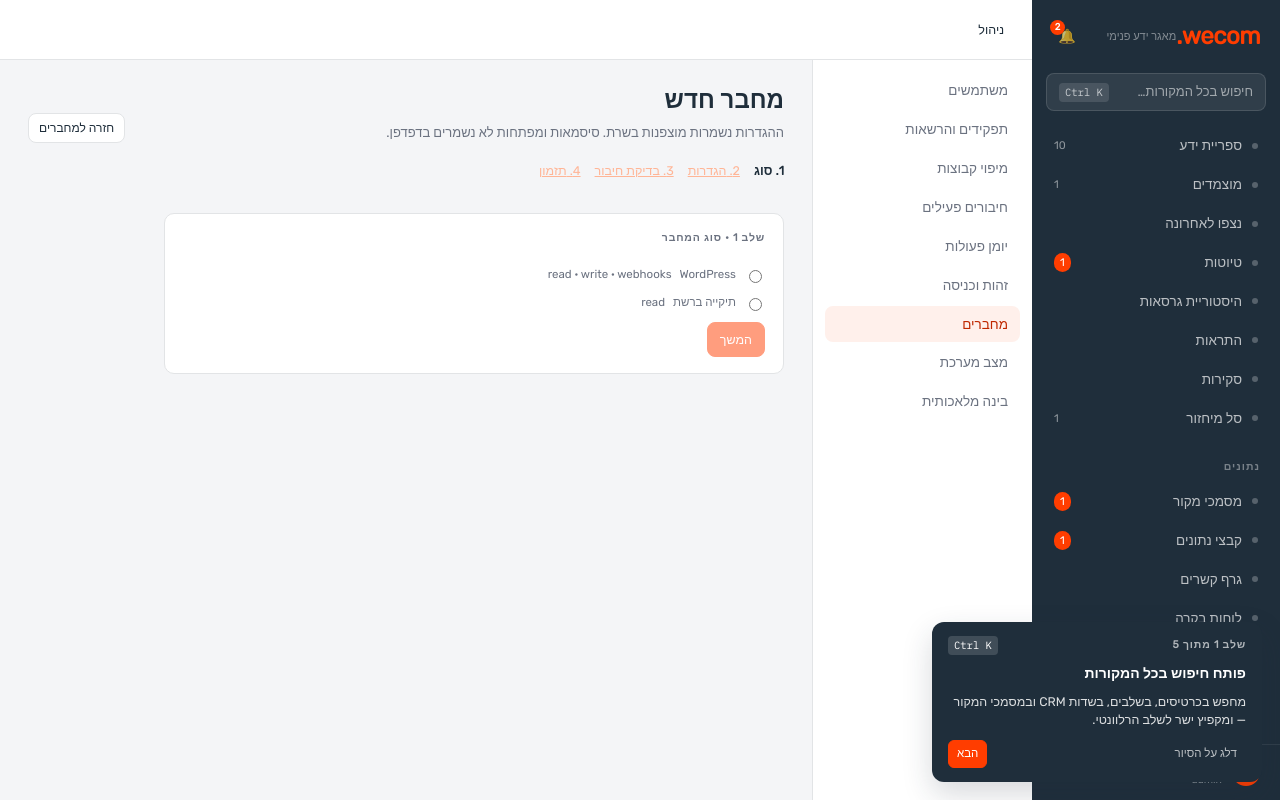
Test: admin · connector wizard › renders the form from the type configSchema, not from hand-written fields
The image size is (1280, 800).
Click the radio button labelled "WordPress". click: (756, 276)
box: [749,270,762,283]
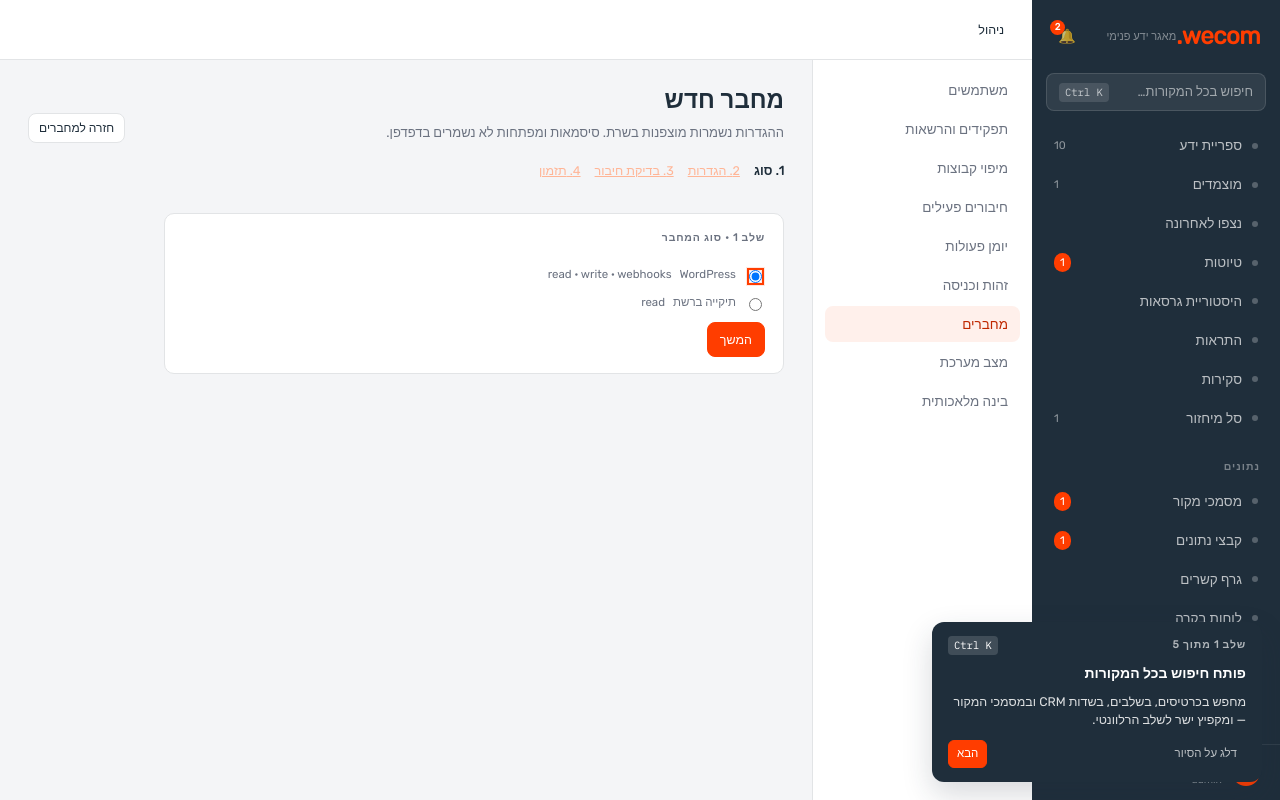
Click the button "המשך". click: (736, 339)
box: [707,322,765,357]
(page scrolled)
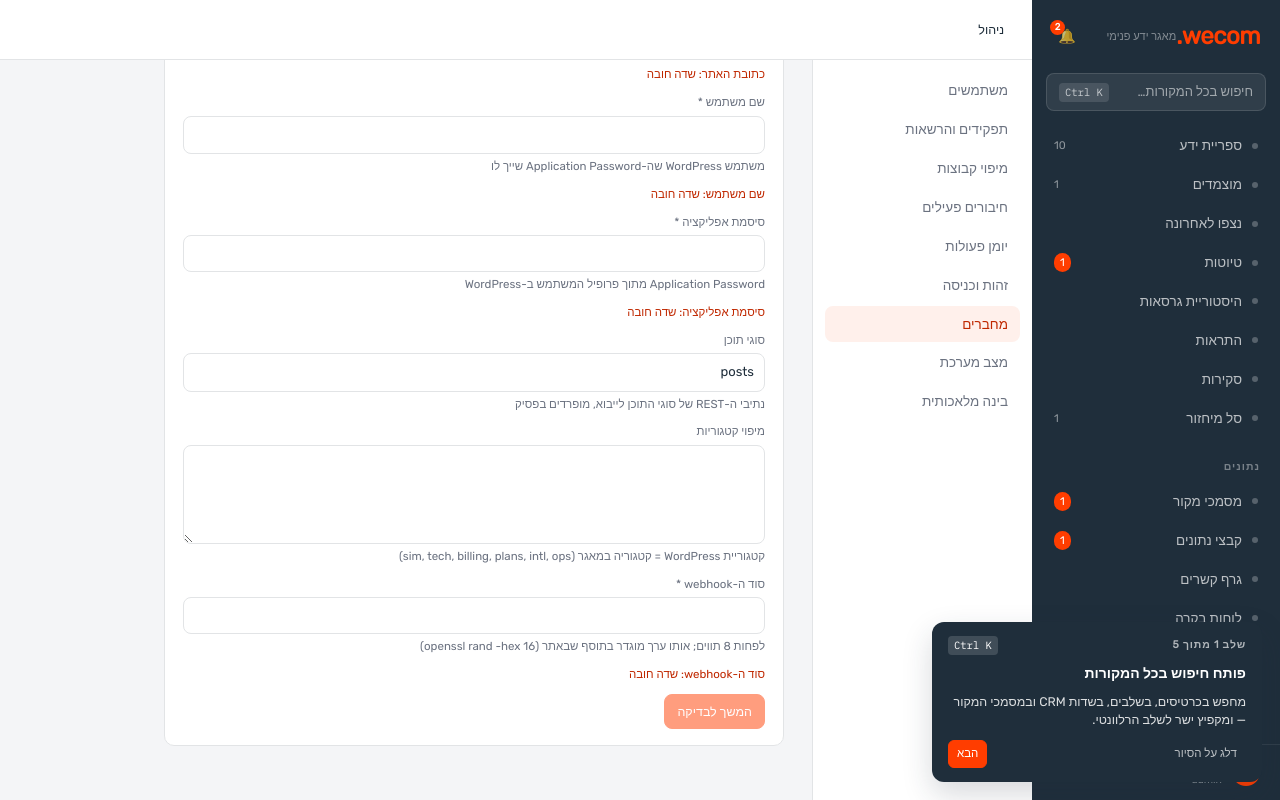
Expected: the text box labelled "מיפוי קטגוריות" is empty, [183,445,765,544]
Now the field labelled "סוגי תוכן" holds "posts", box [183,353,765,392]
